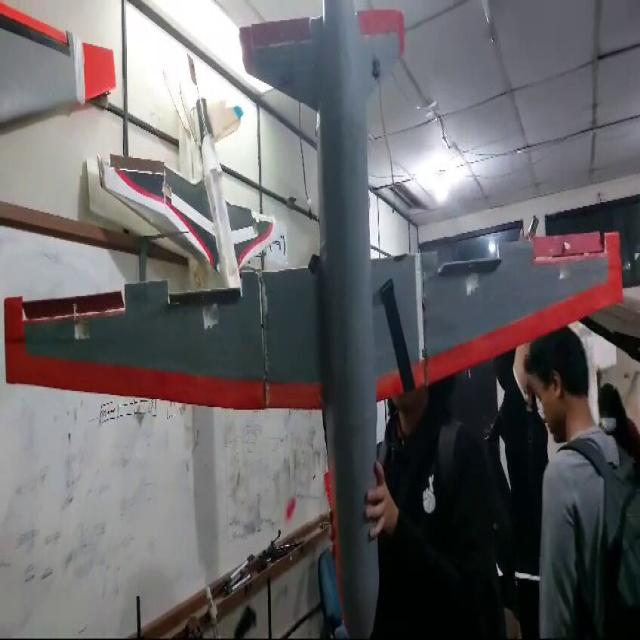plane: (1, 0, 627, 637)
